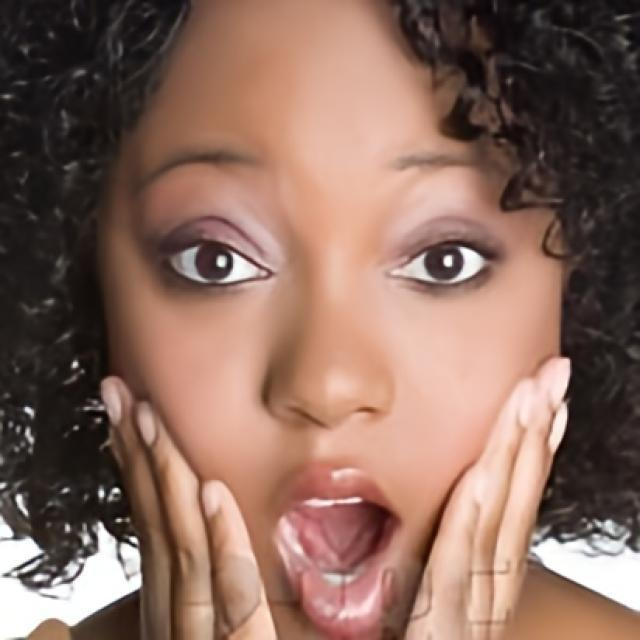surprise: (96, 0, 564, 637)
